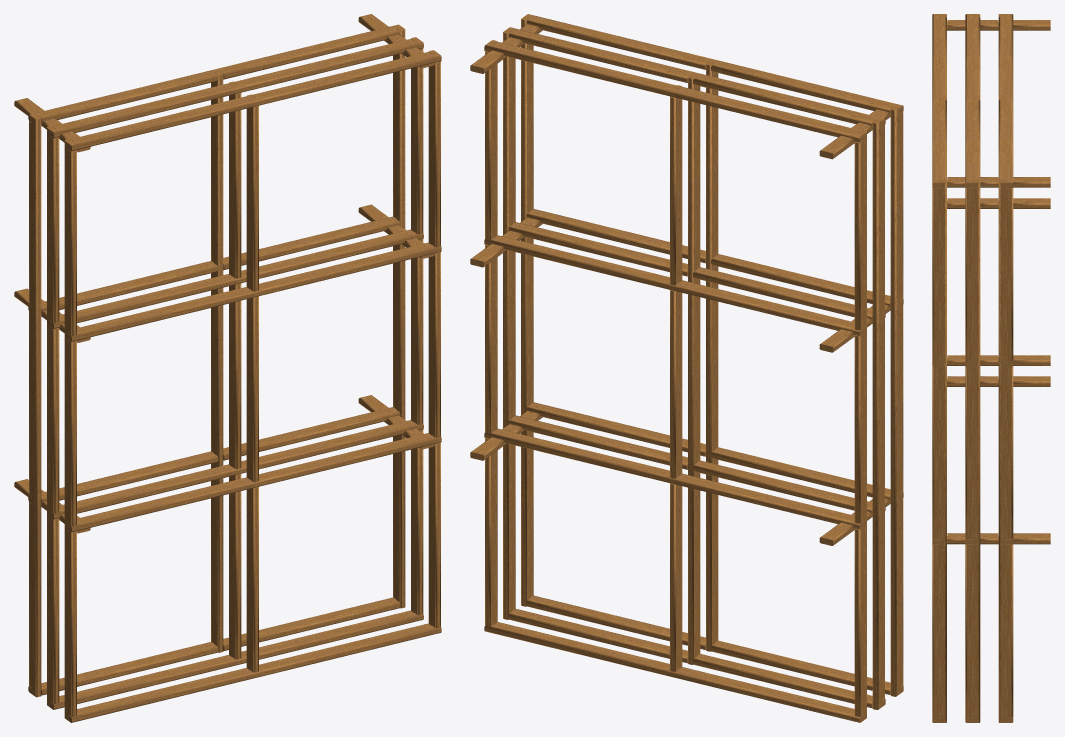
Rendered from VCKB0050.glb.
3 views of the same model, side by side, from view 1: azimuth 30°, elevation 25°; view 2: azimuth 150°, elevation 25°; view 3: azimuth 270°, elevation 25° (orthographic). The views are drawn at different scales.
Visible parts, largest first — view 1: G-Difference.033; view 2: G-Difference.033; view 3: G-Difference.033.
Boxes of the visible parts, box(x1,y1,x2,y2) form: G-Difference.033: box(14, 14, 441, 722); G-Difference.033: box(470, 14, 903, 722); G-Difference.033: box(932, 14, 1050, 722).
Size of the model in its own units: 0.812 by 1.21 by 0.241.
2 materials, 2 textured.
